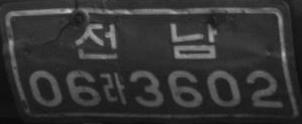0: (205, 68, 242, 108), (28, 69, 63, 108)
2: (245, 68, 284, 108)
3: (129, 69, 165, 108)
6: (64, 68, 102, 107), (167, 68, 203, 109)
라: (101, 70, 128, 106)
전남_D: (71, 21, 219, 60)
